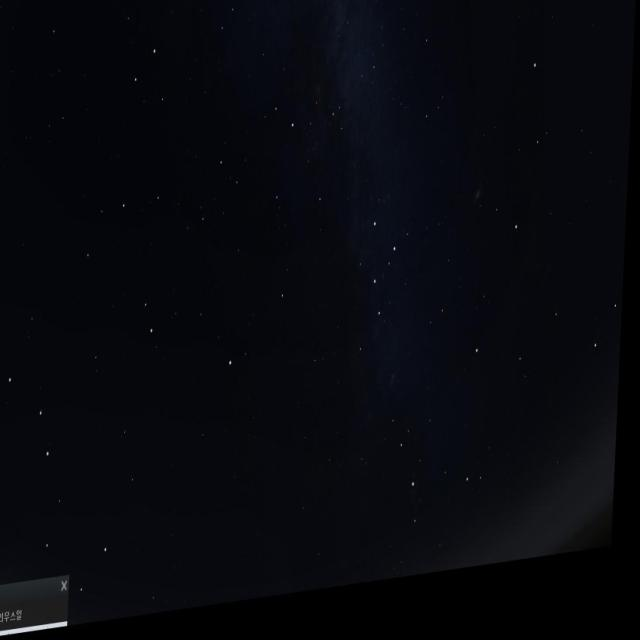cassiopeia: (347, 218, 406, 354)
ursa_major: (0, 356, 125, 616)
